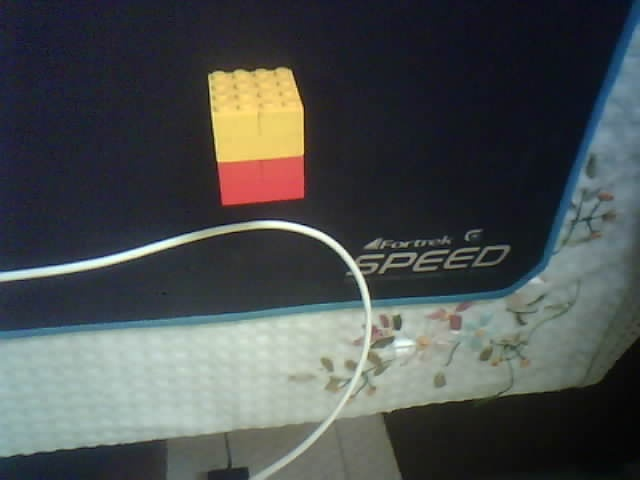lego: (205, 66, 305, 207)
